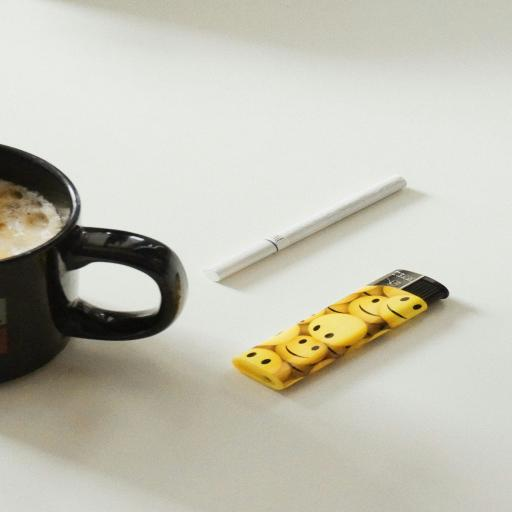lighter: (240, 261, 448, 390)
